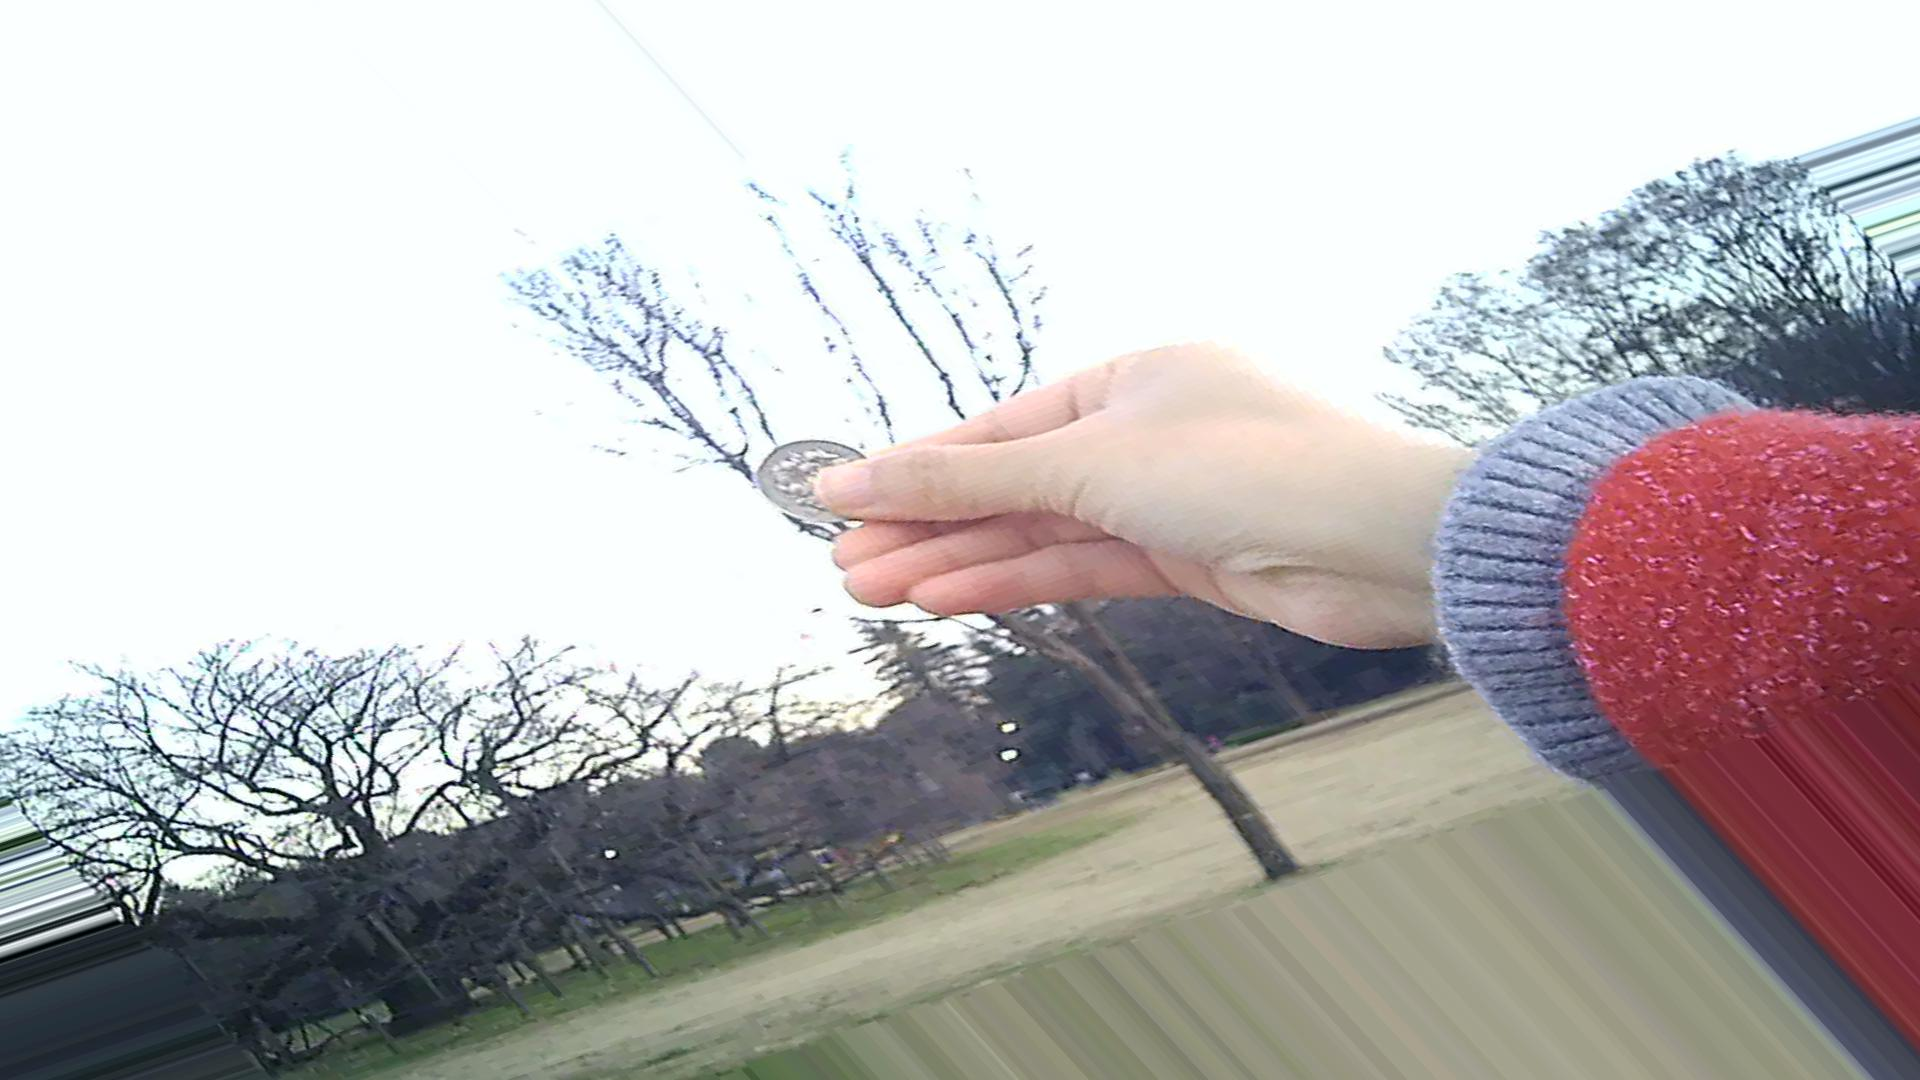100 Yen: (748, 429, 884, 521)
